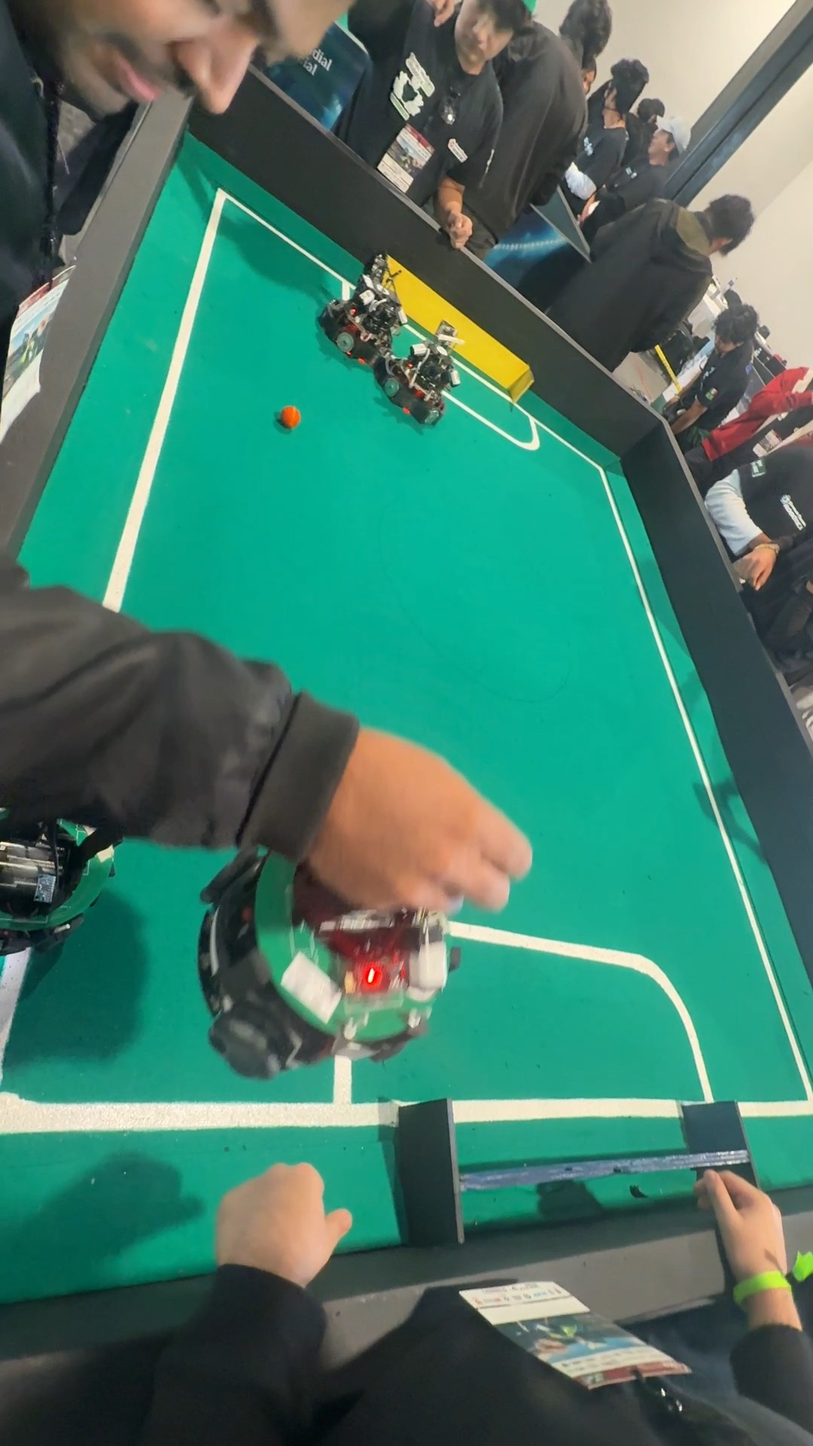Robot: (283, 722, 465, 1078), (0, 798, 116, 971), (308, 255, 405, 381), (378, 312, 466, 433)
pelota: (279, 404, 299, 429)
